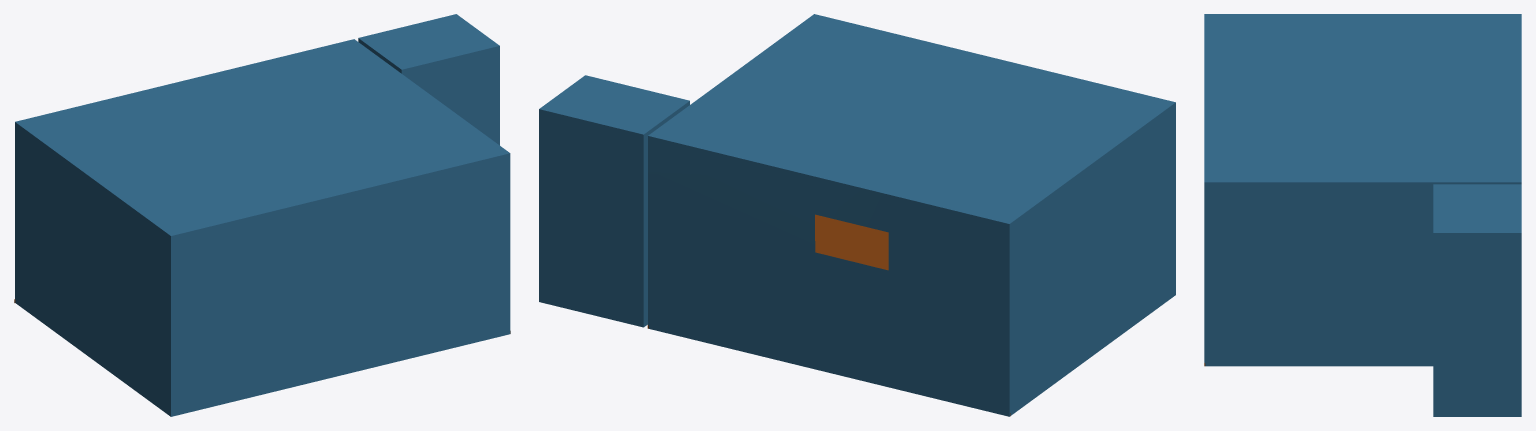
The model's file is room_structure_001.FBX.
3 views of the same model, side by side, from view 1: azimuth 30°, elevation 25°; view 2: azimuth 150°, elevation 25°; view 3: azimuth 270°, elevation 25° (orthographic). The views are drawn at different scales.
Visible parts, largest first — view 1: room_structure; view 2: room_structure; view 3: room_structure.
Part boxes in pixels (<box>): room_structure: <box>14,14,510,416</box>; room_structure: <box>539,14,1175,416</box>; room_structure: <box>1204,14,1521,416</box>.
Size of the model in its own units: 6.24 by 2.44 by 3.82.
